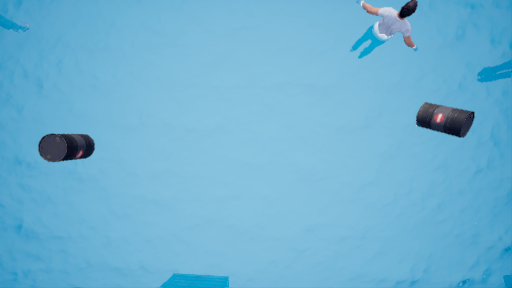person: (347, 2, 426, 72)
